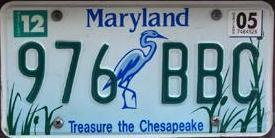placa de veiculo: (3, 2, 273, 138)
